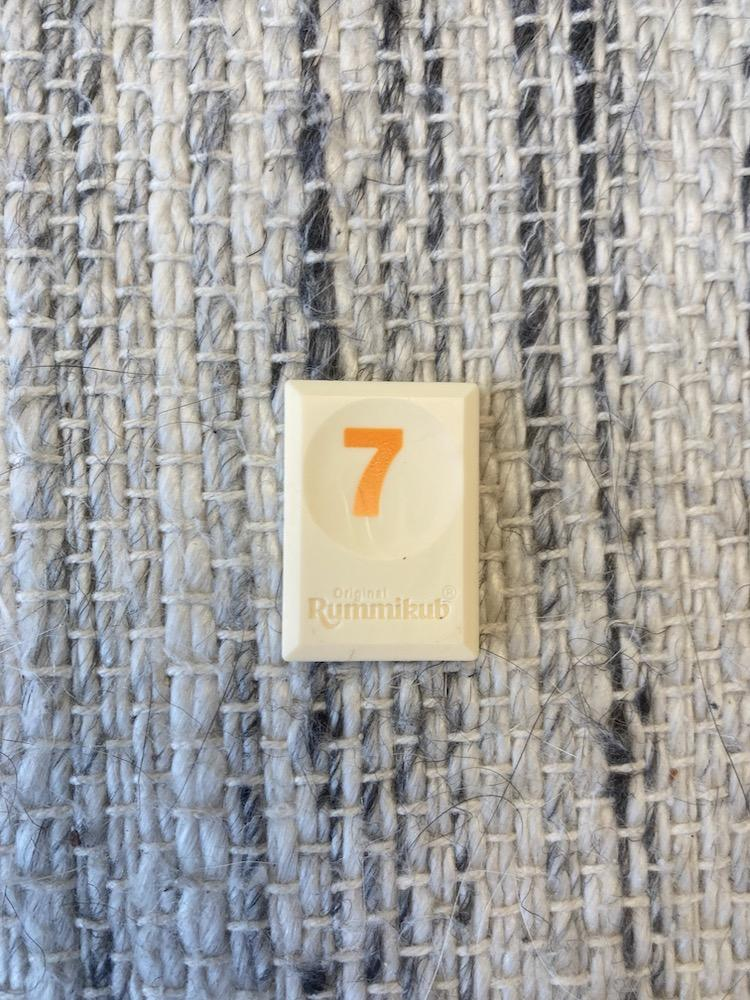orange_7: (283, 381, 479, 662)
